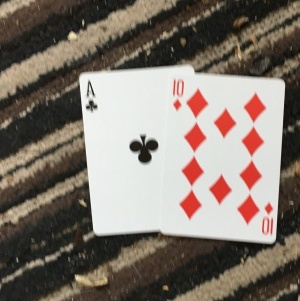card: (165, 71, 285, 241), (79, 66, 164, 235)
